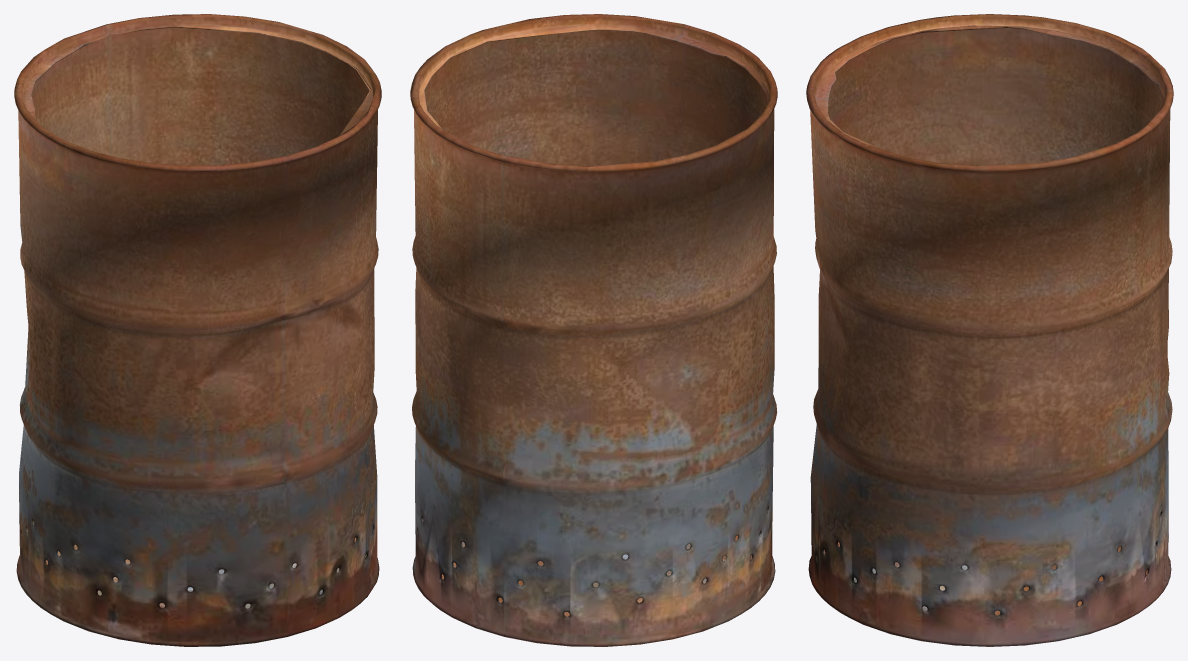
File: barrel_stove.glb
3 renders of one model, left to right at view 1: azimuth 30°, elevation 25°; view 2: azimuth 150°, elevation 25°; view 3: azimuth 270°, elevation 25°, orthographic.
Parts seen in each view (by area): view 1: barrel_stove; view 2: barrel_stove; view 3: barrel_stove.
Part boxes in pixels (x1,y1,x2,y2): barrel_stove: [14, 14, 381, 646]; barrel_stove: [410, 14, 777, 646]; barrel_stove: [806, 14, 1173, 646].
Size of the model in its own units: 0.5926 by 0.8556 by 0.5925.
Materials: 1 (1 with a texture image).
